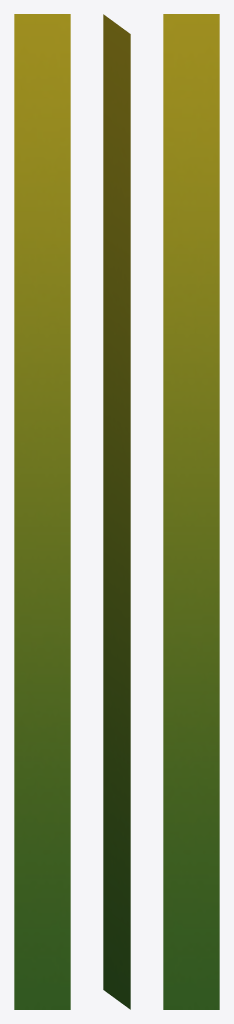
Rendered from ColorFlag_001.fbx.
The picture shows the model from 3 angles, left to right: view 1: azimuth 90°, elevation 25°; view 2: azimuth 210°, elevation 25°; view 3: azimuth 270°, elevation 25°; orthographic projection. The views are drawn at different scales.
Visible parts, largest first — view 1: ColorFlag_001; view 2: ColorFlag_001; view 3: ColorFlag_001.
Part boxes in pixels (x1=…): ColorFlag_001: x1=14, y1=14, x2=70, y2=1009; ColorFlag_001: x1=103, y1=14, x2=130, y2=1009; ColorFlag_001: x1=163, y1=14, x2=219, y2=1009.
Size of the model in its own units: 1.41e-06 by 48.71 by 2.5.
